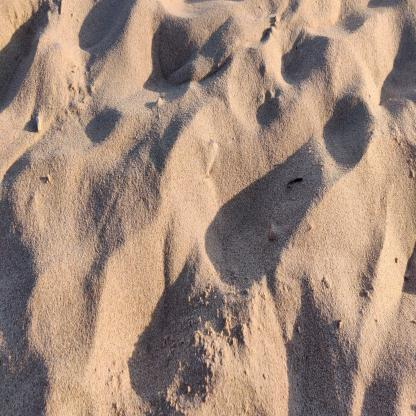trash: (204, 140, 221, 182)
